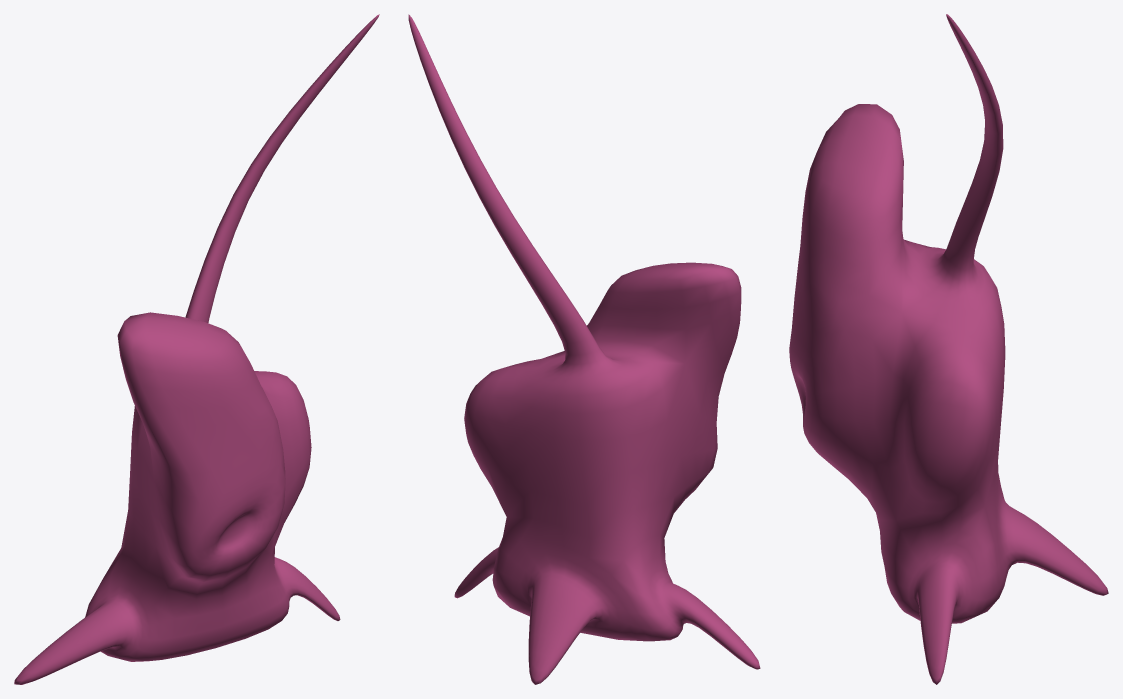
The picture shows the model from 3 angles, left to right: view 1: azimuth 30°, elevation 25°; view 2: azimuth 150°, elevation 25°; view 3: azimuth 270°, elevation 25°; orthographic projection. The views are drawn at different scales.
Visible parts, largest first — view 1: Continuous aged trunk and primary branches; view 2: Continuous aged trunk and primary branches; view 3: Continuous aged trunk and primary branches.
Part boxes in pixels (<box>): Continuous aged trunk and primary branches: <box>14,14,379,684</box>; Continuous aged trunk and primary branches: <box>408,14,760,684</box>; Continuous aged trunk and primary branches: <box>789,14,1108,684</box>.
Bounding box in the file's own units: 1.08 × 1.69 × 0.7026.
